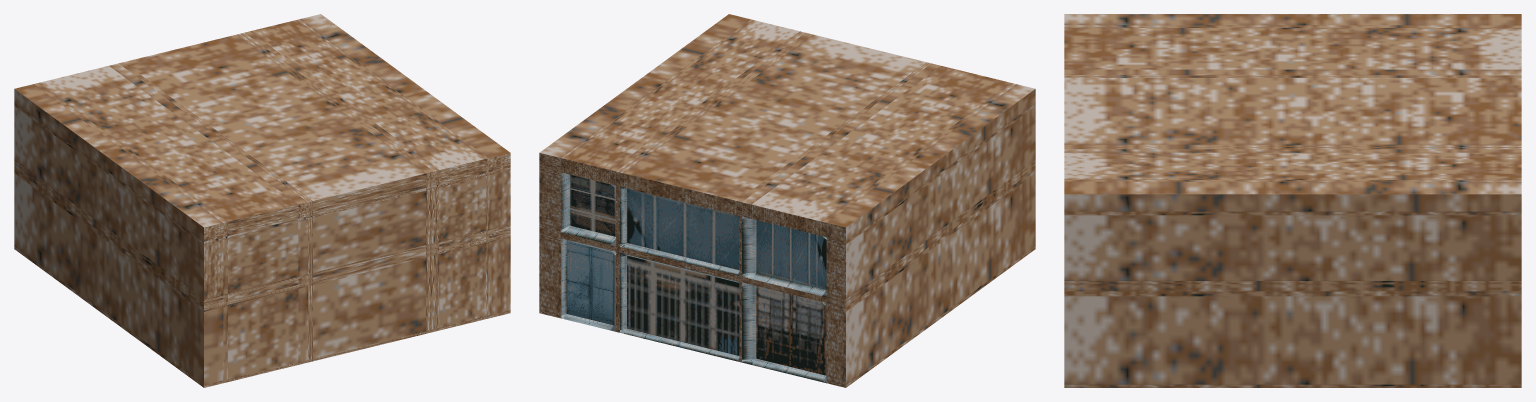
The model's file is chinesewarehouse.fbx.
The picture shows the model from 3 angles, left to right: view 1: azimuth 30°, elevation 25°; view 2: azimuth 150°, elevation 25°; view 3: azimuth 270°, elevation 25°; orthographic projection. The views are drawn at different scales.
Visible parts, largest first — view 1: mesh; view 2: mesh; view 3: mesh.
Part boxes in pixels (x1,y1,x2,y2): mesh: [14, 14, 510, 387]; mesh: [539, 14, 1035, 387]; mesh: [1064, 14, 1521, 387].
Size of the model in its own units: 87.5 by 43.75 by 93.75.
1 material, 1 textured.
